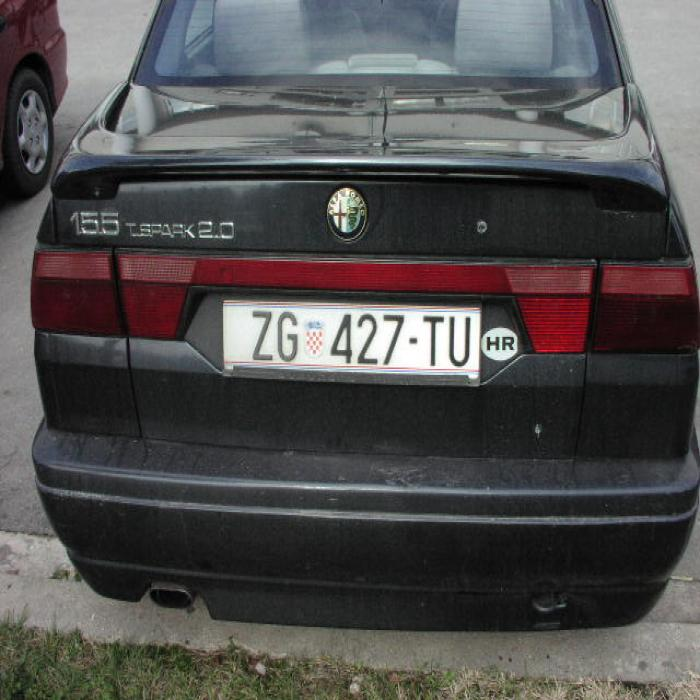number_plate: (223, 300, 477, 372)
